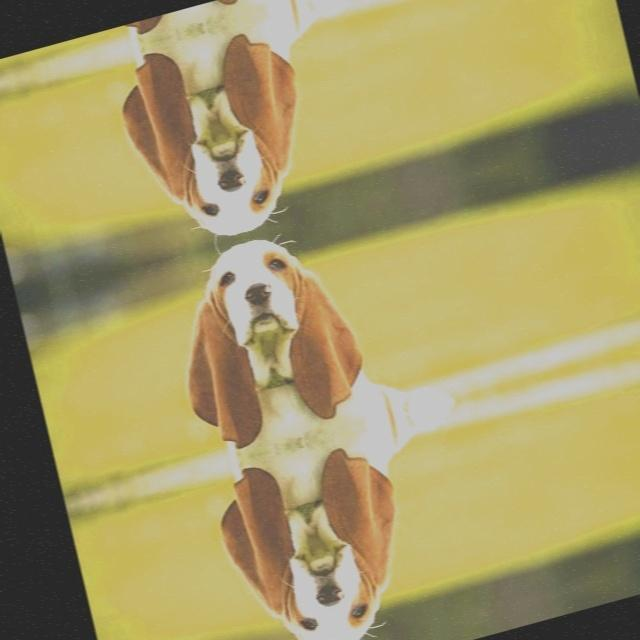dog: (132, 46, 309, 255), (173, 220, 350, 428), (230, 462, 408, 640)
